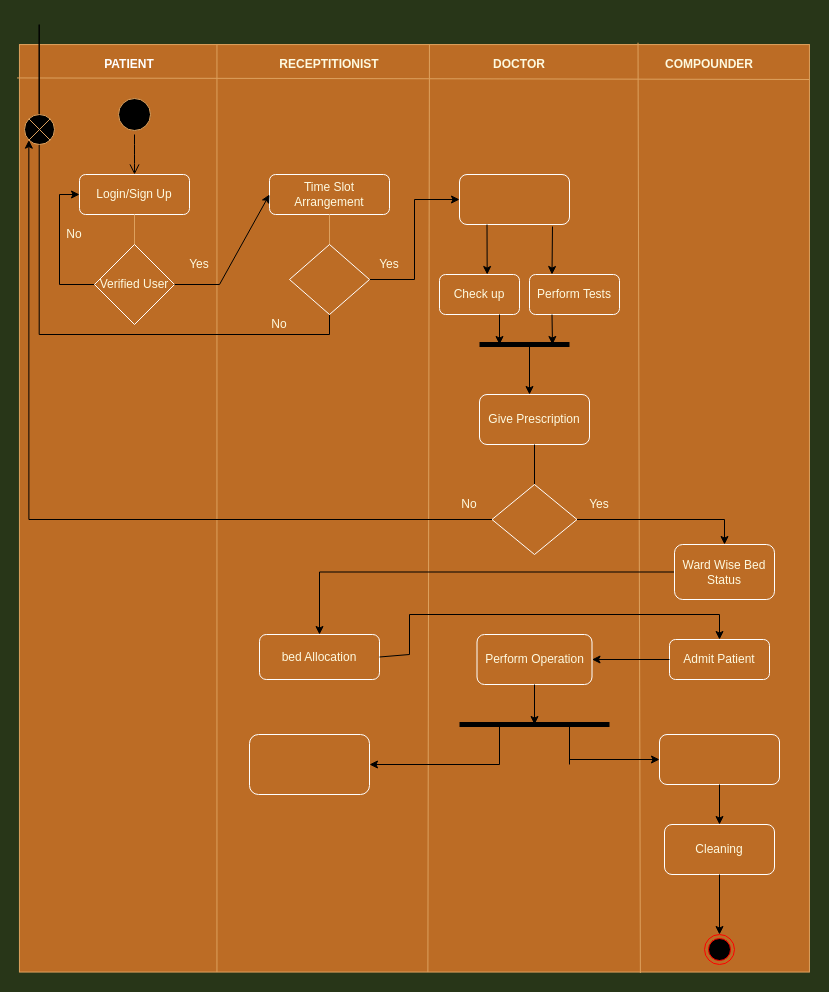
Some shapes in this 829 by 992 pixel diagram are drawn without their labels. Here are the shapes that lost their labels. From the top down, the centre of each, then its label:
the point at 514,199: Gives Appointment
the point at 329,279: Availability
the point at 534,519: Operation Required
the point at 309,764: Maintain Record
the point at 719,759: Discharge Patient
